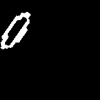chain: (1, 12, 29, 48)
